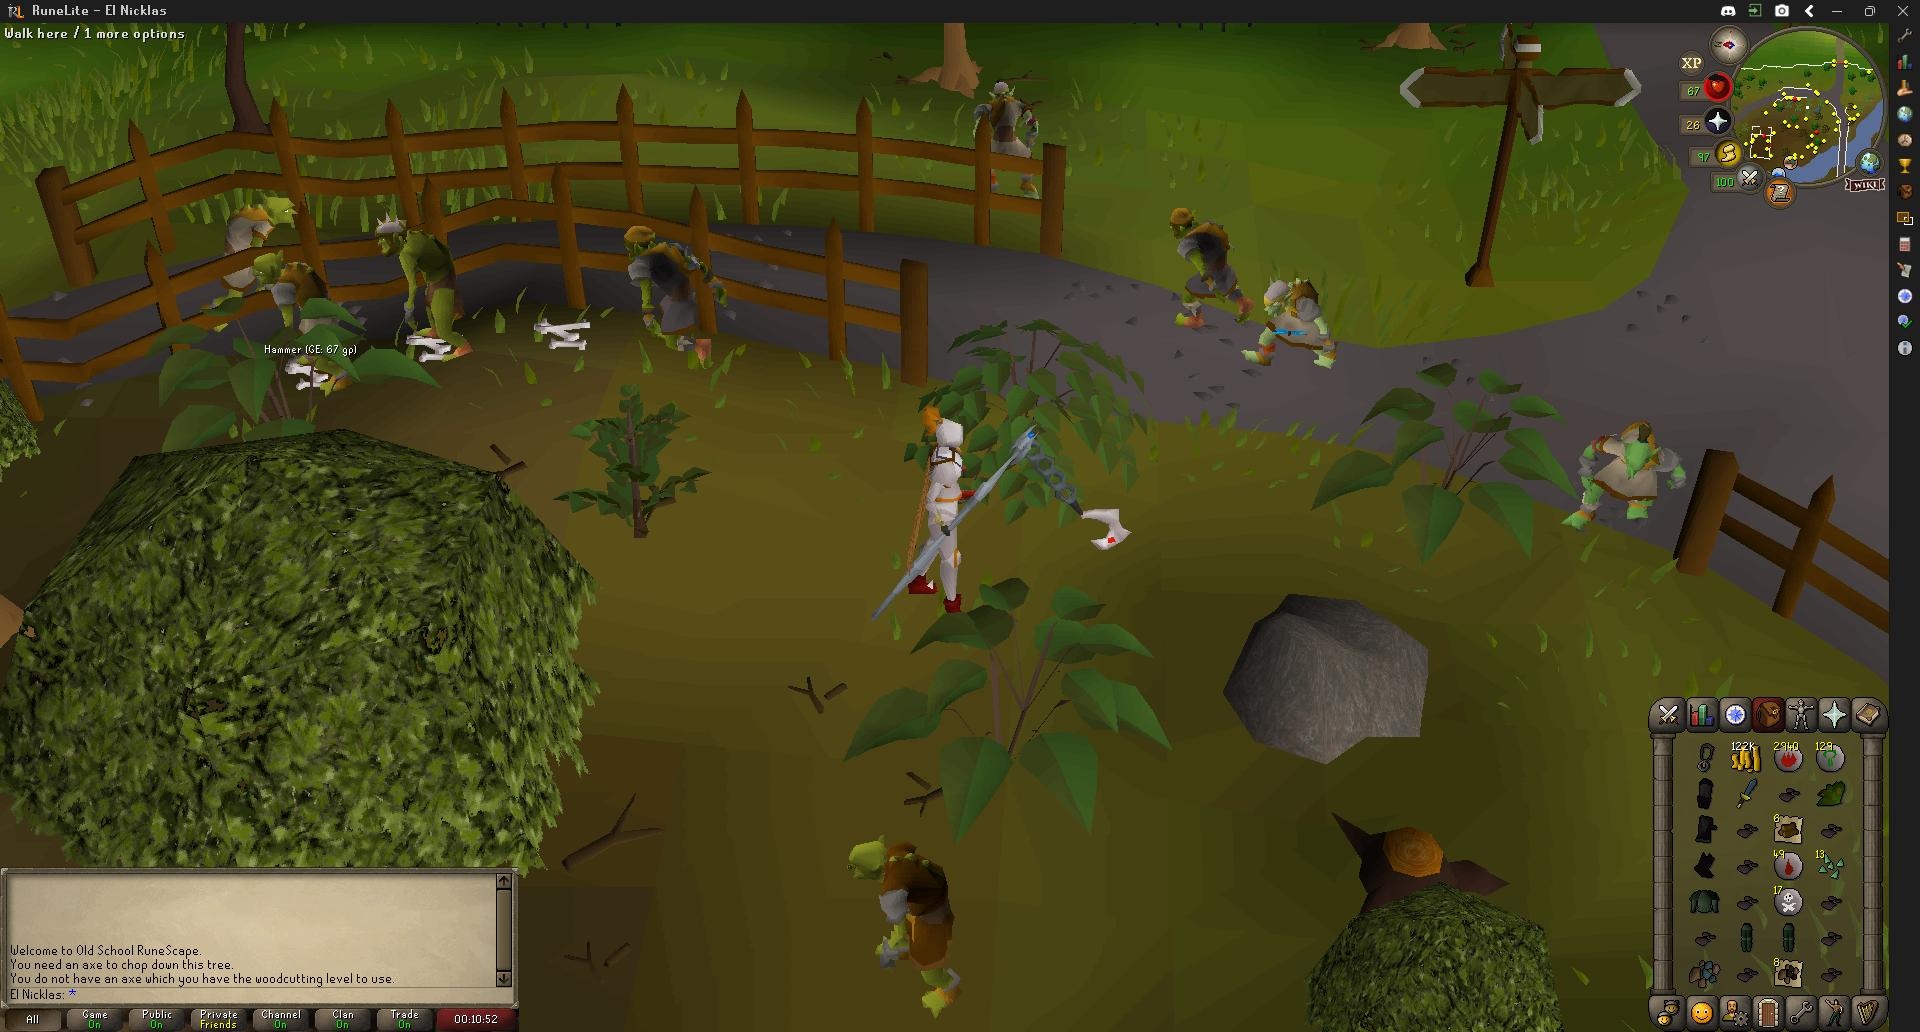Player: (906, 410, 974, 609)
goblin: (847, 833, 963, 1022), (379, 214, 484, 367), (1555, 418, 1681, 531), (639, 227, 730, 365), (1169, 210, 1249, 337), (240, 251, 338, 341), (973, 79, 1043, 194), (215, 203, 280, 294), (1270, 275, 1331, 364)
